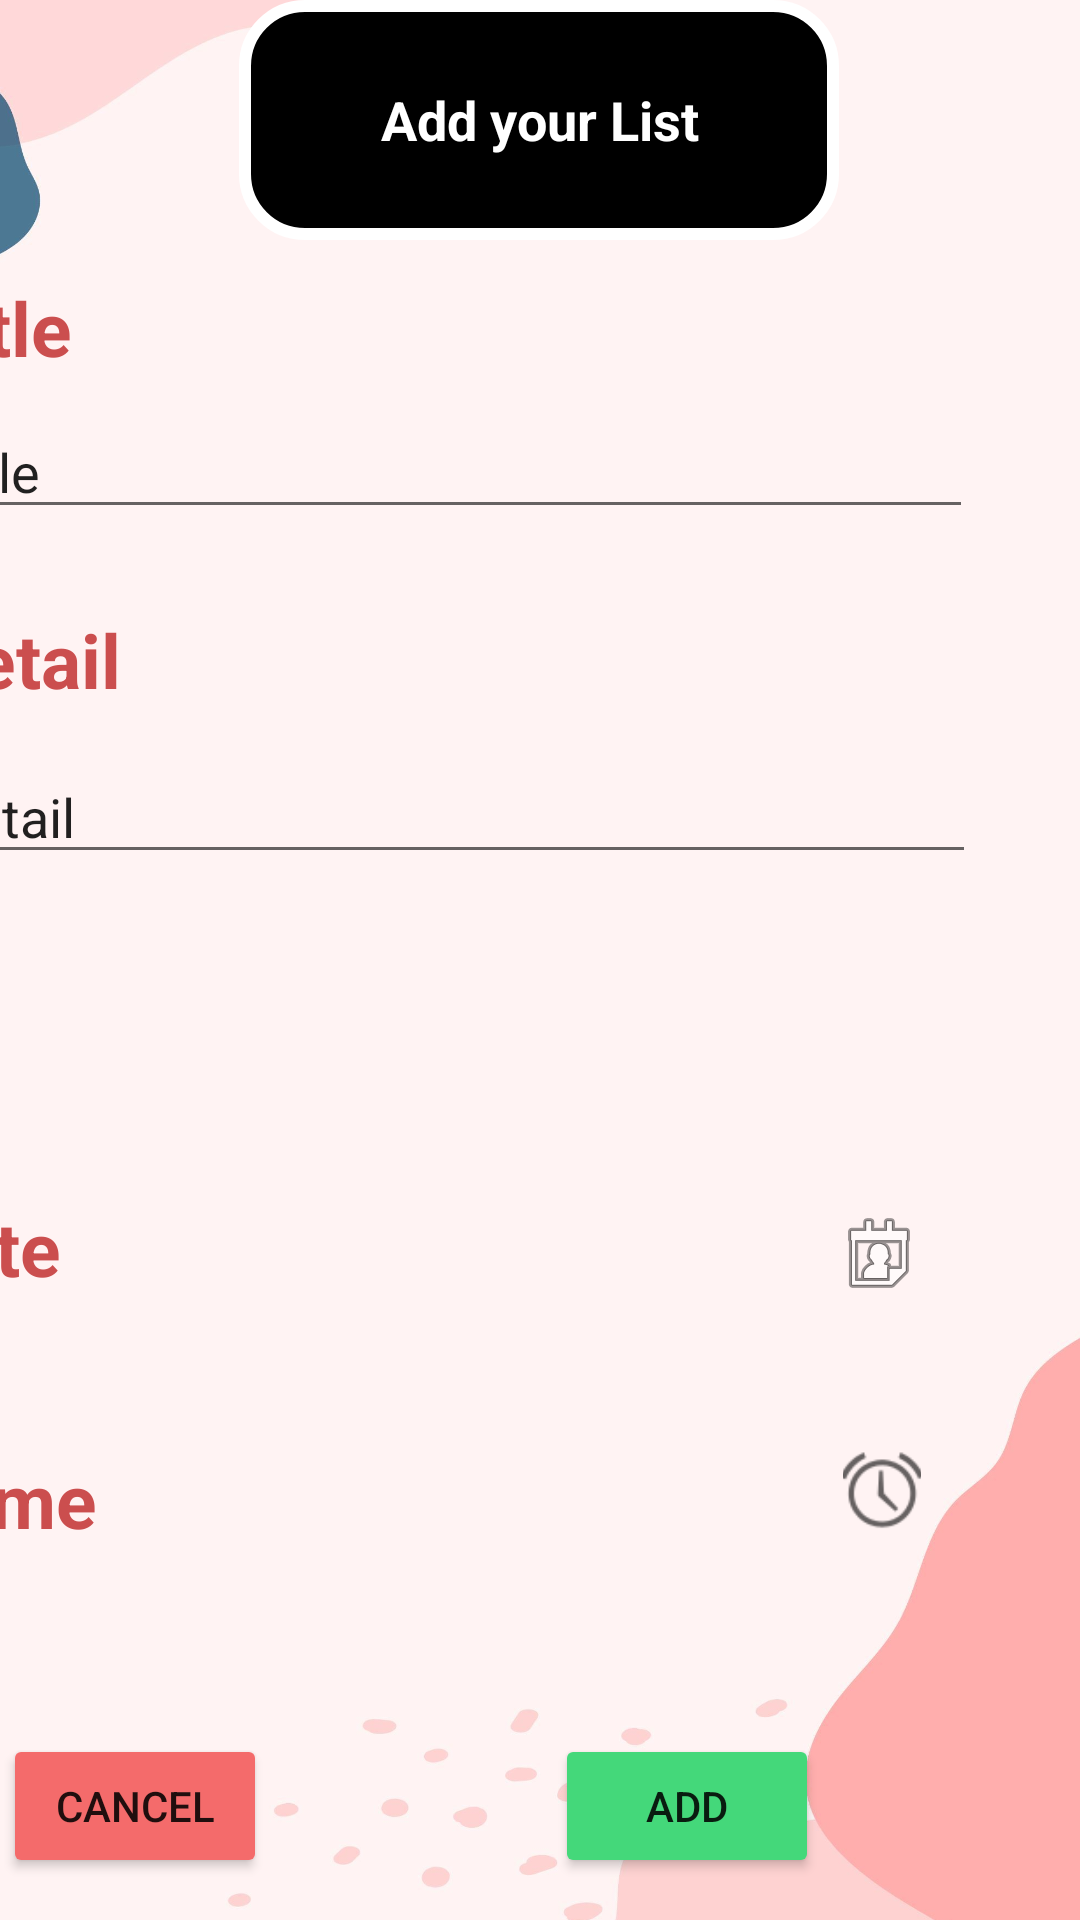

Screen size 1080px×1920px. Icon name, then its box in pixels as BBox(x1, y1, x2, y2):
calendar: BBox(848, 1218, 910, 1288)
lock idle alarm: BBox(843, 1452, 921, 1528)
